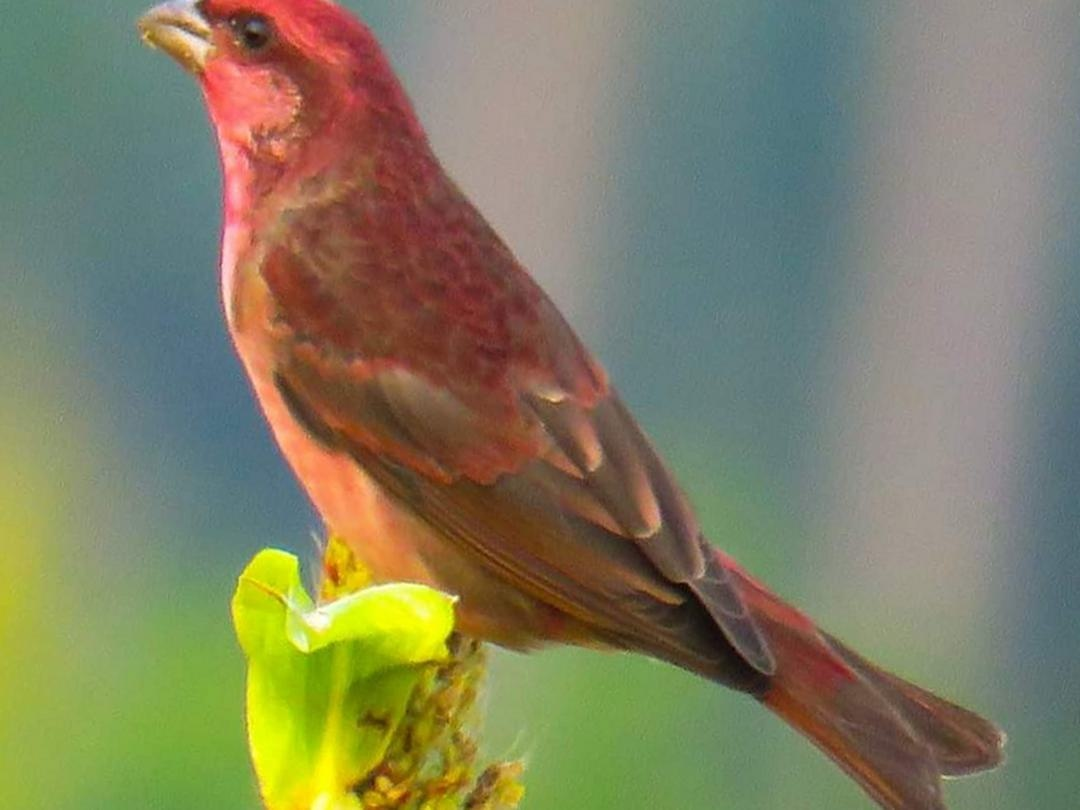rosefinch: (133, 7, 943, 782)
